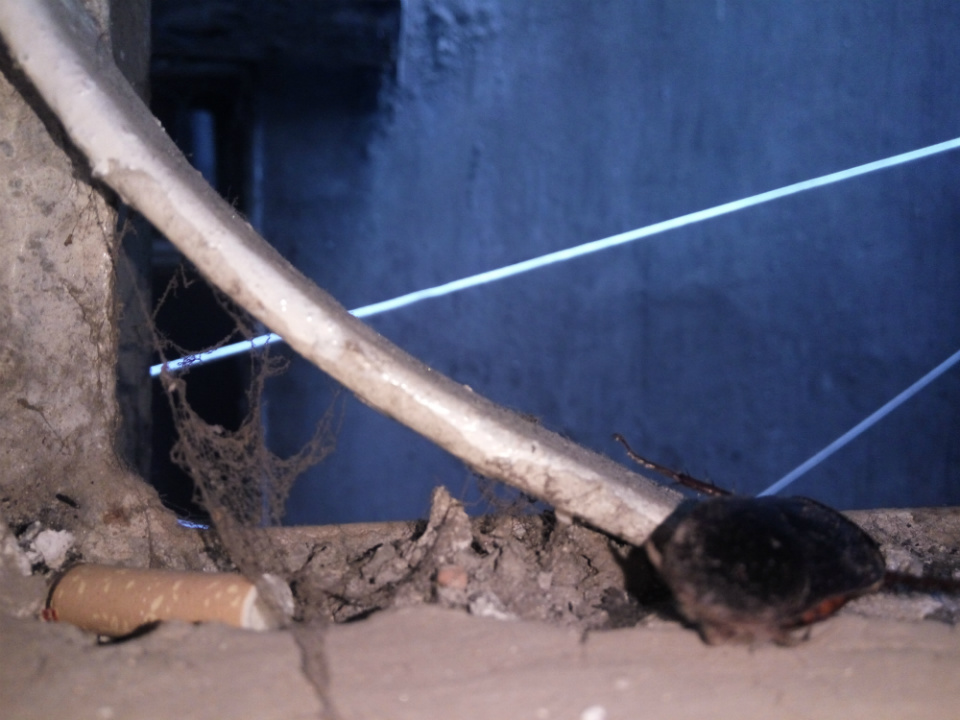cockroach: (587, 410, 933, 680)
